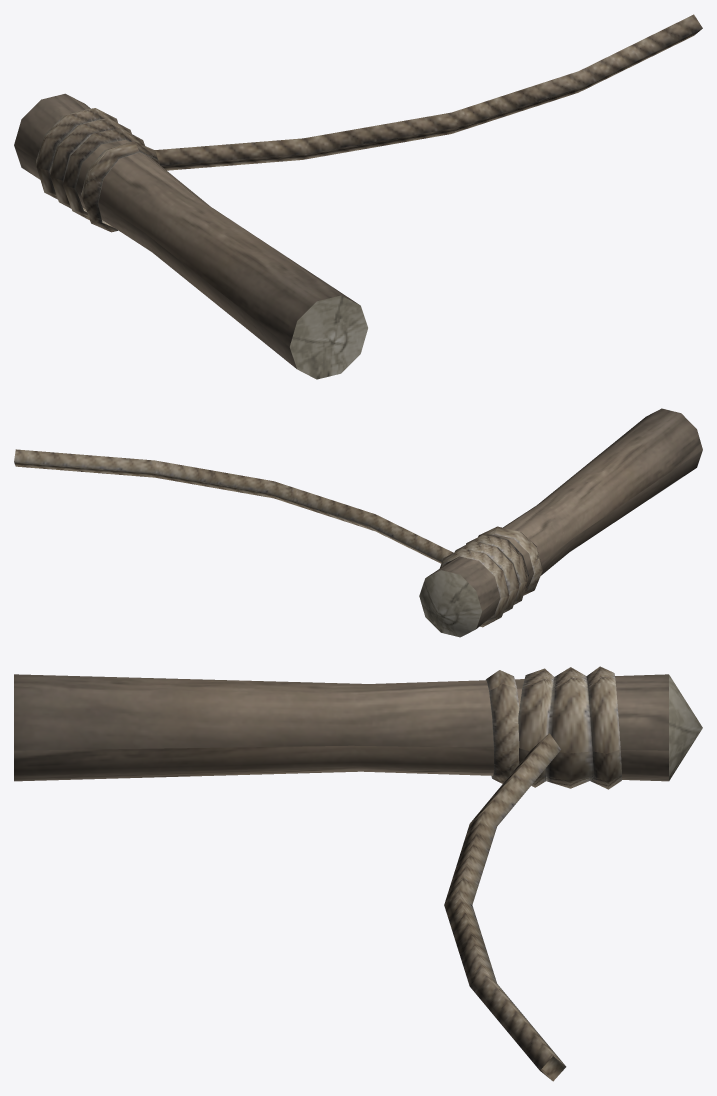
The model's file is Fence_Type_01_A_Left.fbx.
3 renders of one model, top to bottom at view 1: azimuth 30°, elevation 25°; view 2: azimuth 150°, elevation 25°; view 3: azimuth 270°, elevation 25°, orthographic. The views are drawn at different scales.
Visible parts, largest first — view 1: Fence_Type_01_Left_A; view 2: Fence_Type_01_Left_A; view 3: Fence_Type_01_Left_A.
Boxes of the visible parts, box(x1,y1,x2,y2) form: Fence_Type_01_Left_A: box(14, 14, 702, 379); Fence_Type_01_Left_A: box(14, 408, 702, 637); Fence_Type_01_Left_A: box(14, 666, 702, 1081).
Bounding box in the file's own units: 2.06 × 0.2772 × 1.61.
